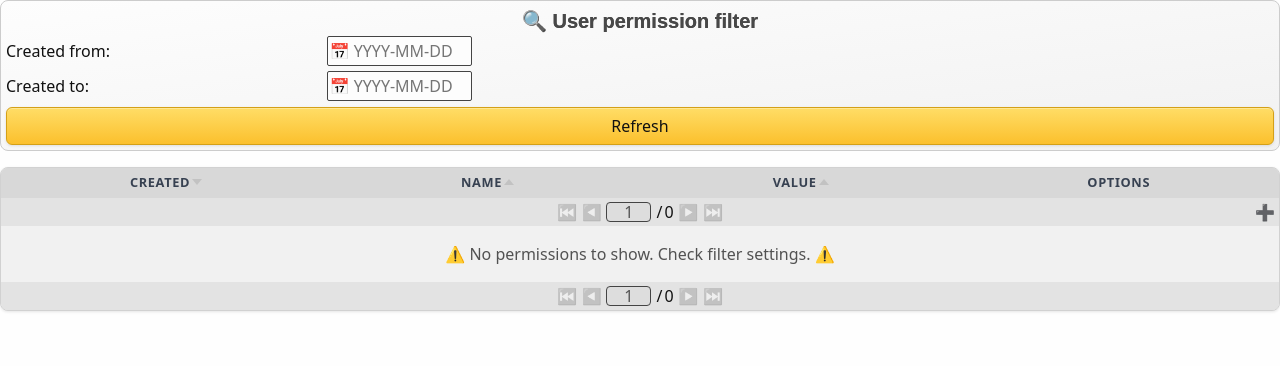
Test: AdminUserPermissions › addEntry › sets up empty form and shows new entry row
This screenshot has width=1280, height=366.
# Click the add button in paginer.
Click the button with class "entry-btn".
click(1265, 212)  # box left=1255, top=200, right=1275, bottom=224
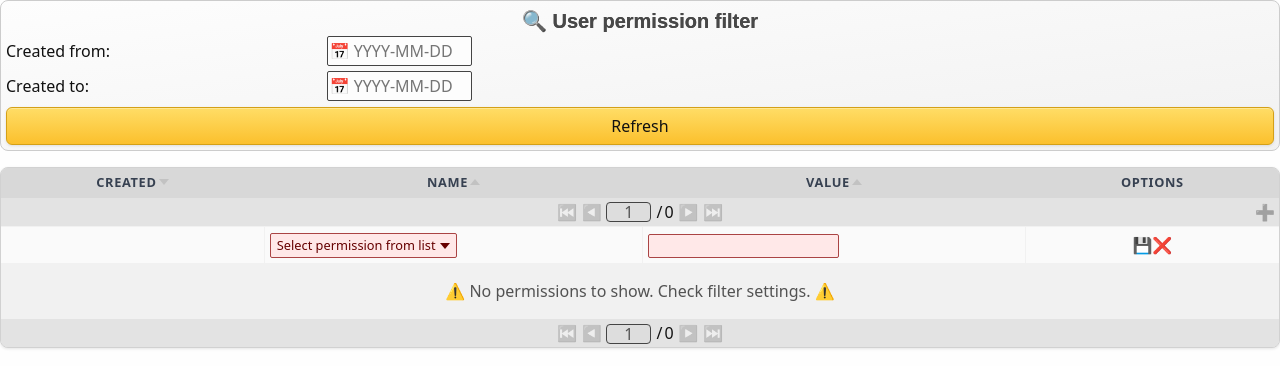
Expected: the dropdown with test id "permission-name" is shown, left=270, top=233, right=457, bottom=258
Expected: the text with class "combobox-selected-text" reads "Select permission from list", left=277, top=236, right=436, bottom=254
